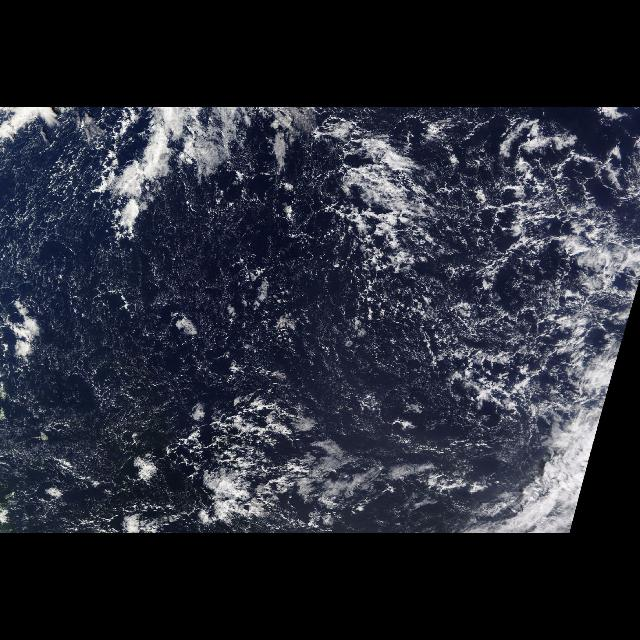Gravel: (2, 112, 632, 534)
Sugar: (40, 258, 166, 444)
